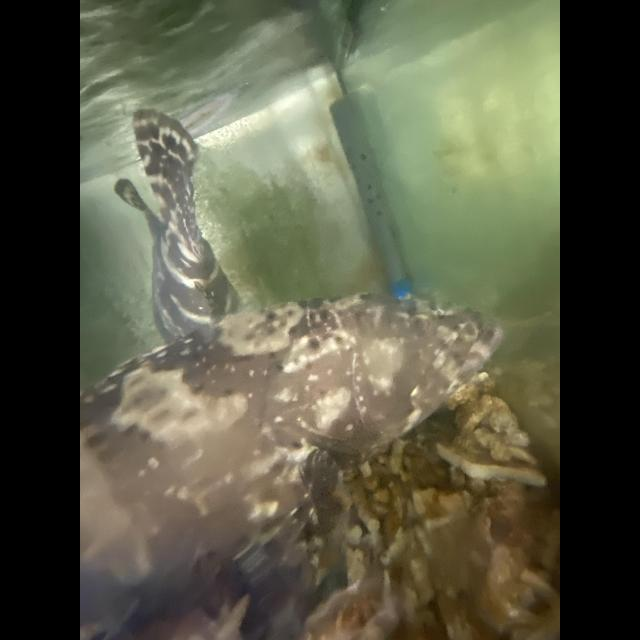Groupers: (80, 296, 504, 630)
